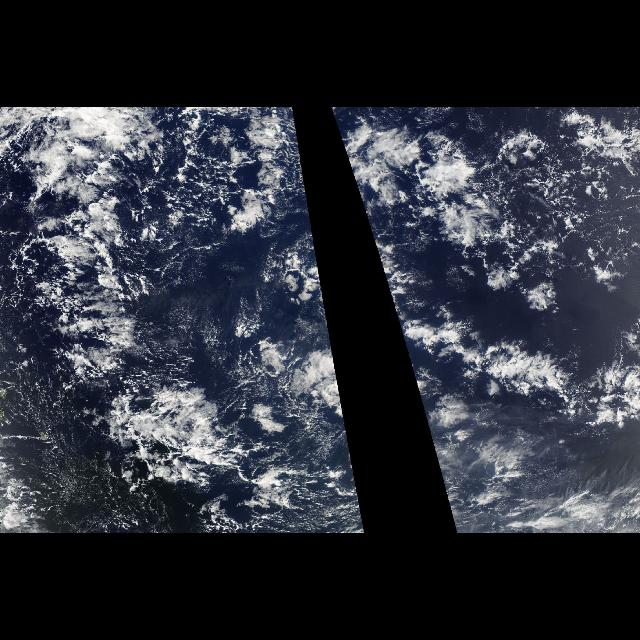Fish: (371, 233, 629, 447), (254, 233, 350, 447)
Flower: (349, 121, 639, 286)
Gravel: (123, 110, 303, 306)
